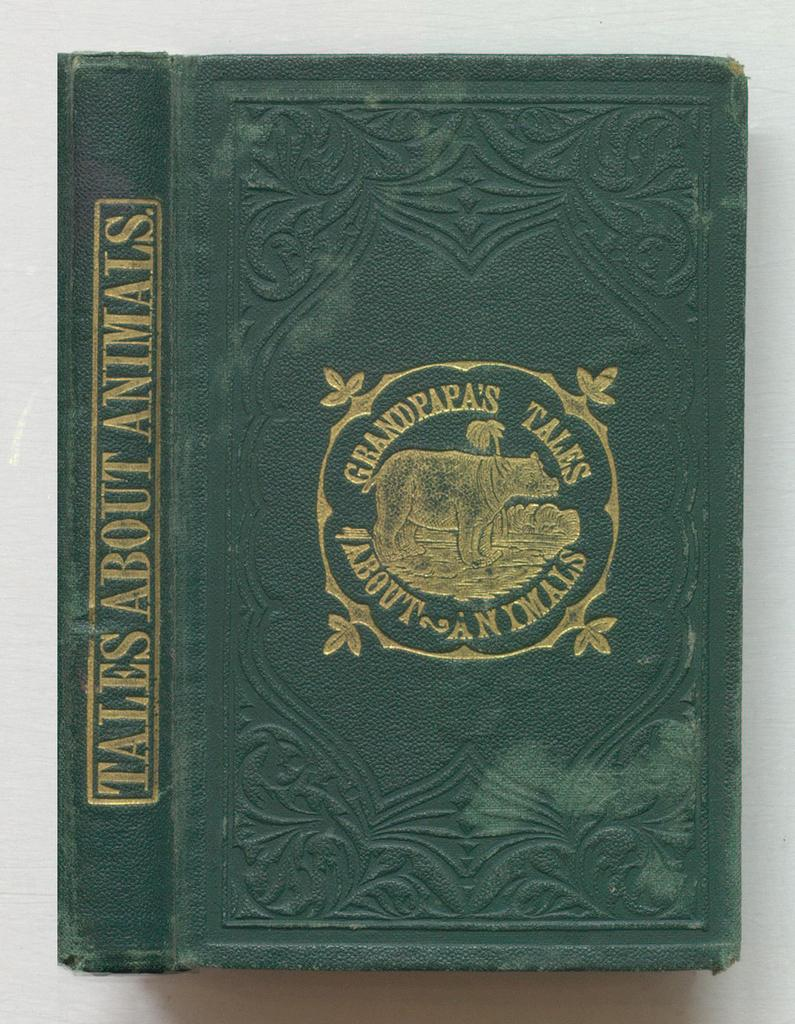book: (50, 42, 742, 972)
